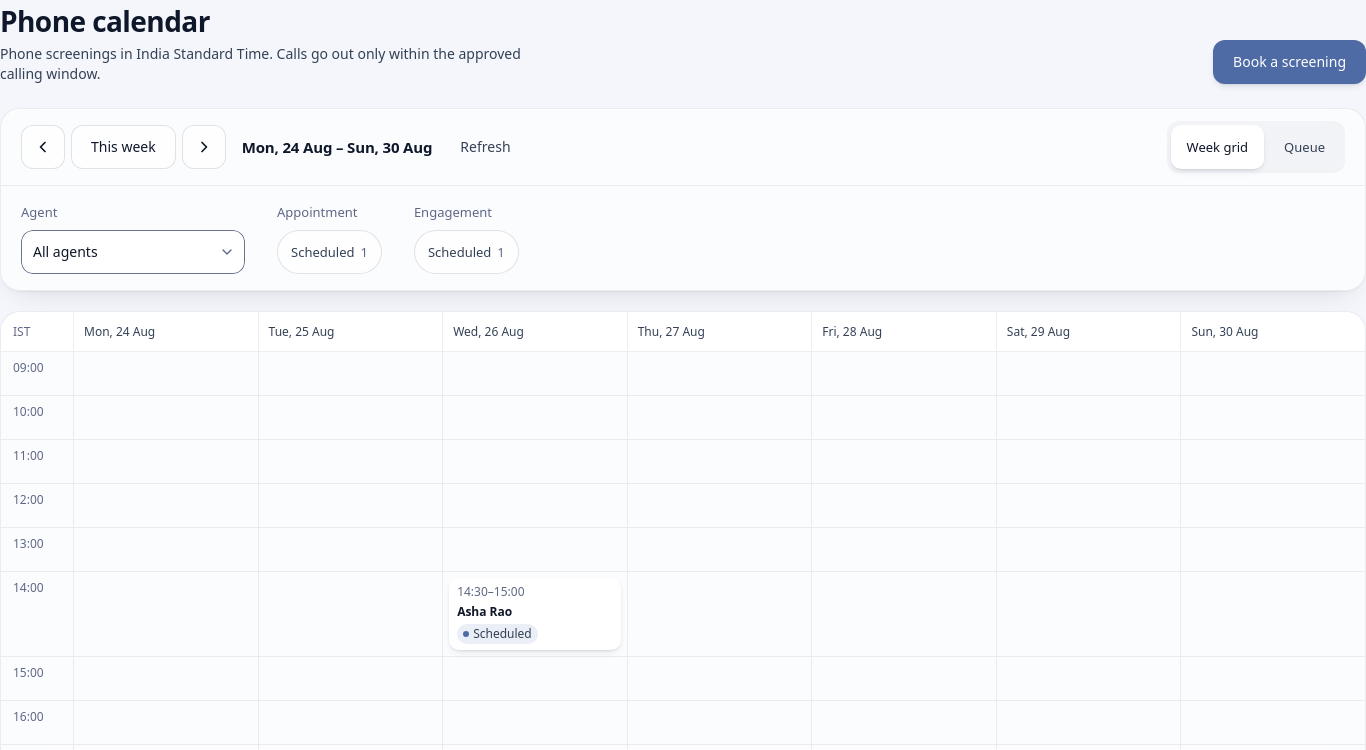
Scenario: candidate callback confirmation evidence › shows the server-stamped confirmation and ten-minute recheck
The image size is (1366, 750).
Step 1. Click the button with aria-label "ATS-4417" → (535, 614), box [449,578,621,650]
(page scrolled)
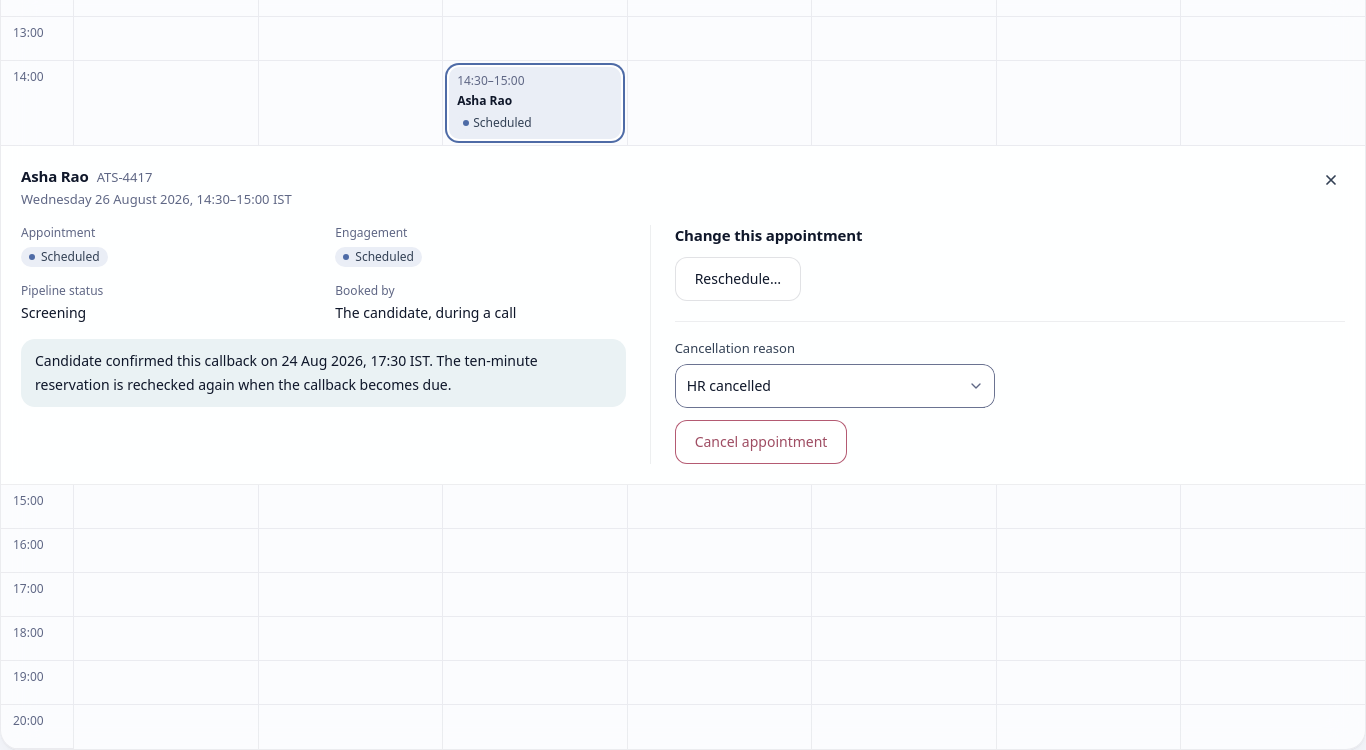
Check: the text "Candidate confirmed this callback" shows "ten-minute reservation is rechecked", box [35,351,538,394]
Check: the text "Candidate confirmed this callback" shows "IST", box [282,351,429,370]
